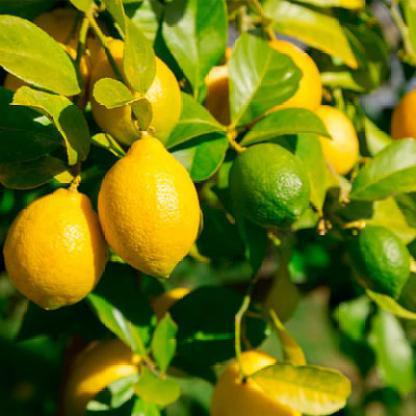lemon: (96, 133, 205, 287), (0, 183, 106, 320), (249, 34, 324, 125)
